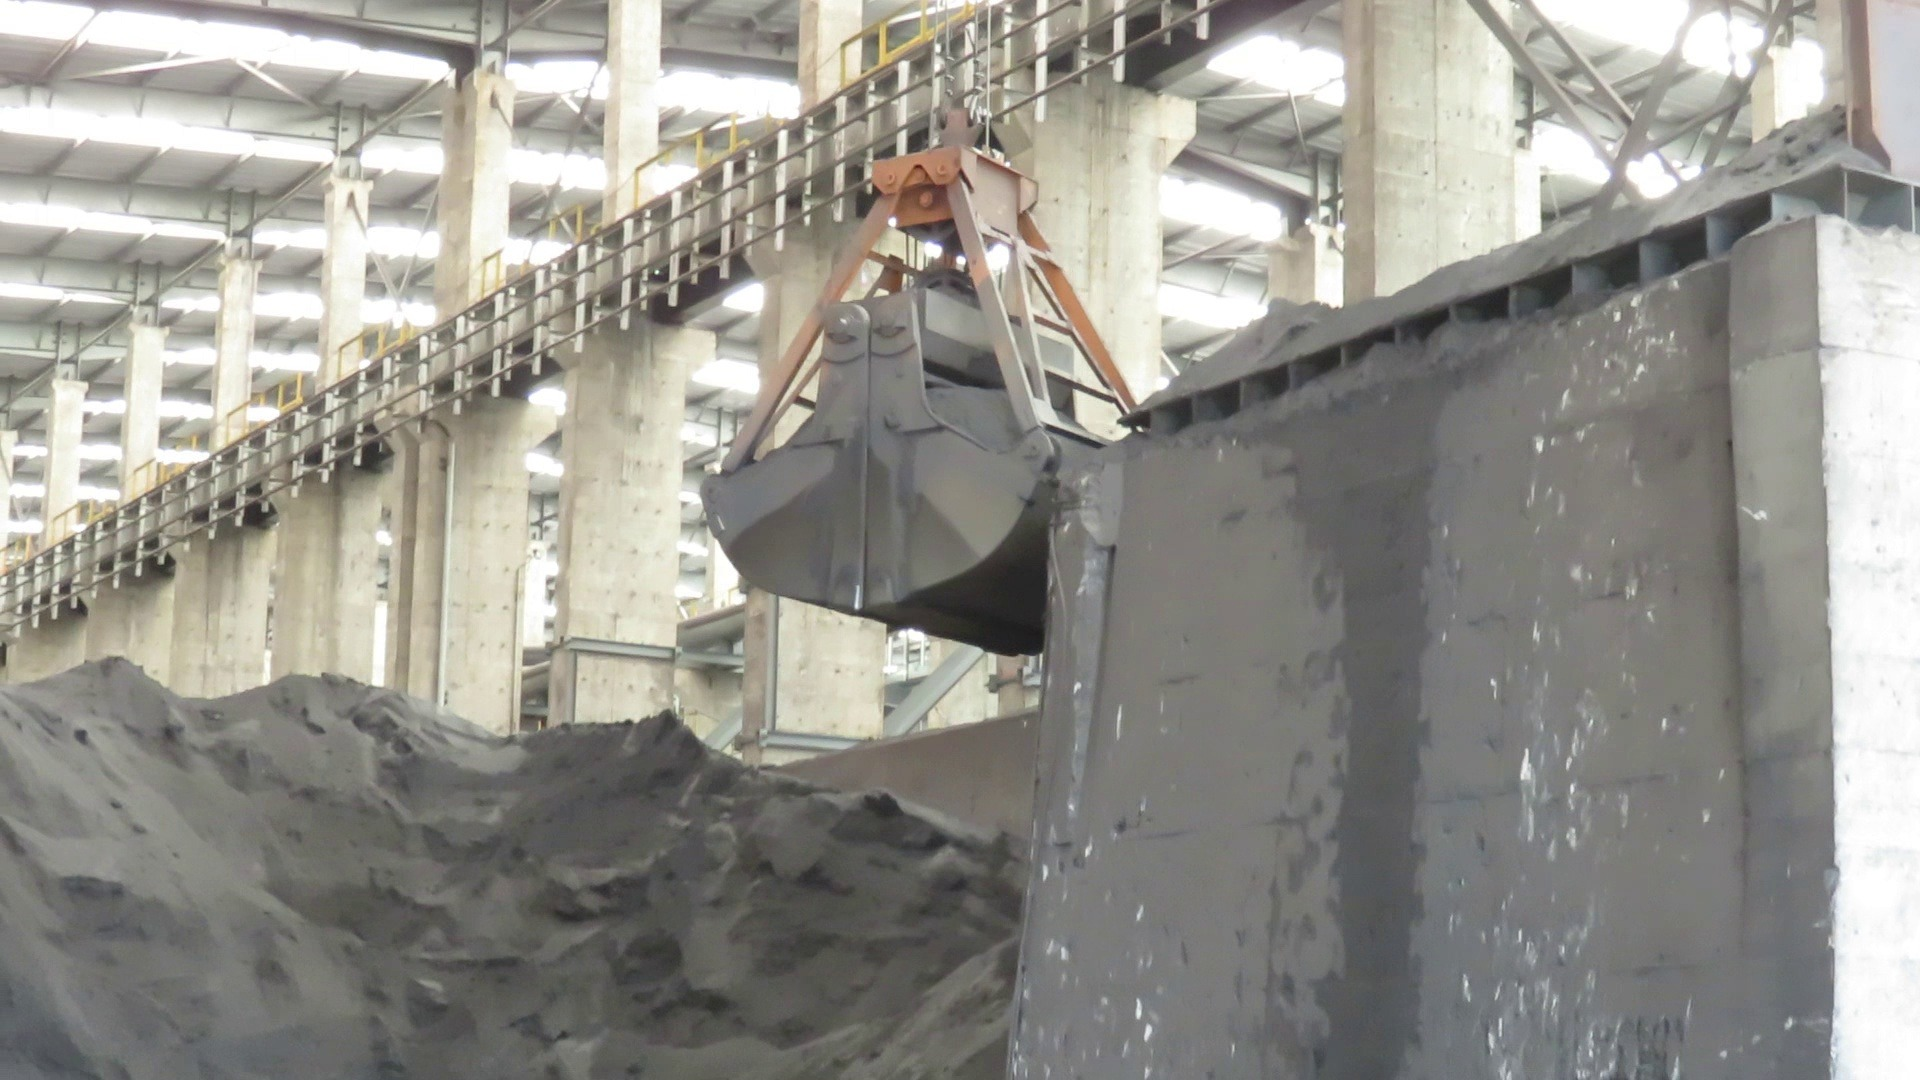grab: (694, 95, 1151, 663)
